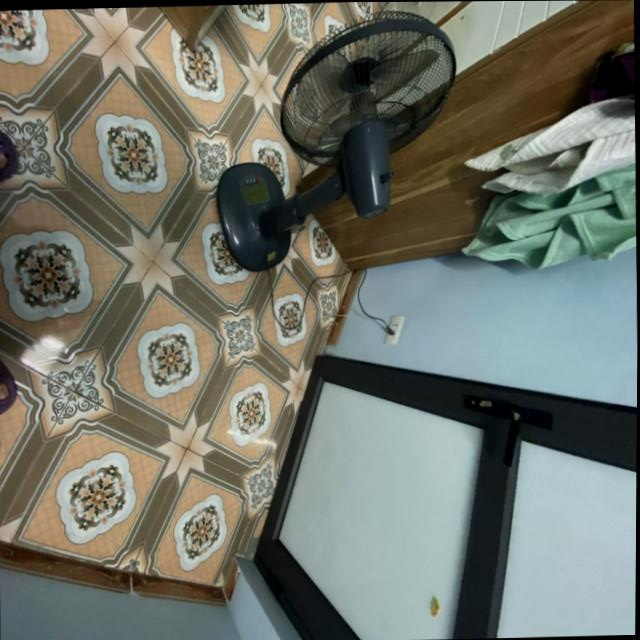outlet: (383, 314, 406, 344)
